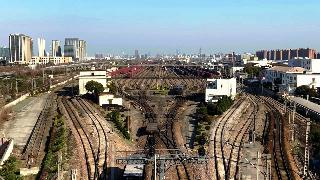train: (122, 155, 146, 180), (146, 122, 158, 133), (177, 84, 185, 94)
